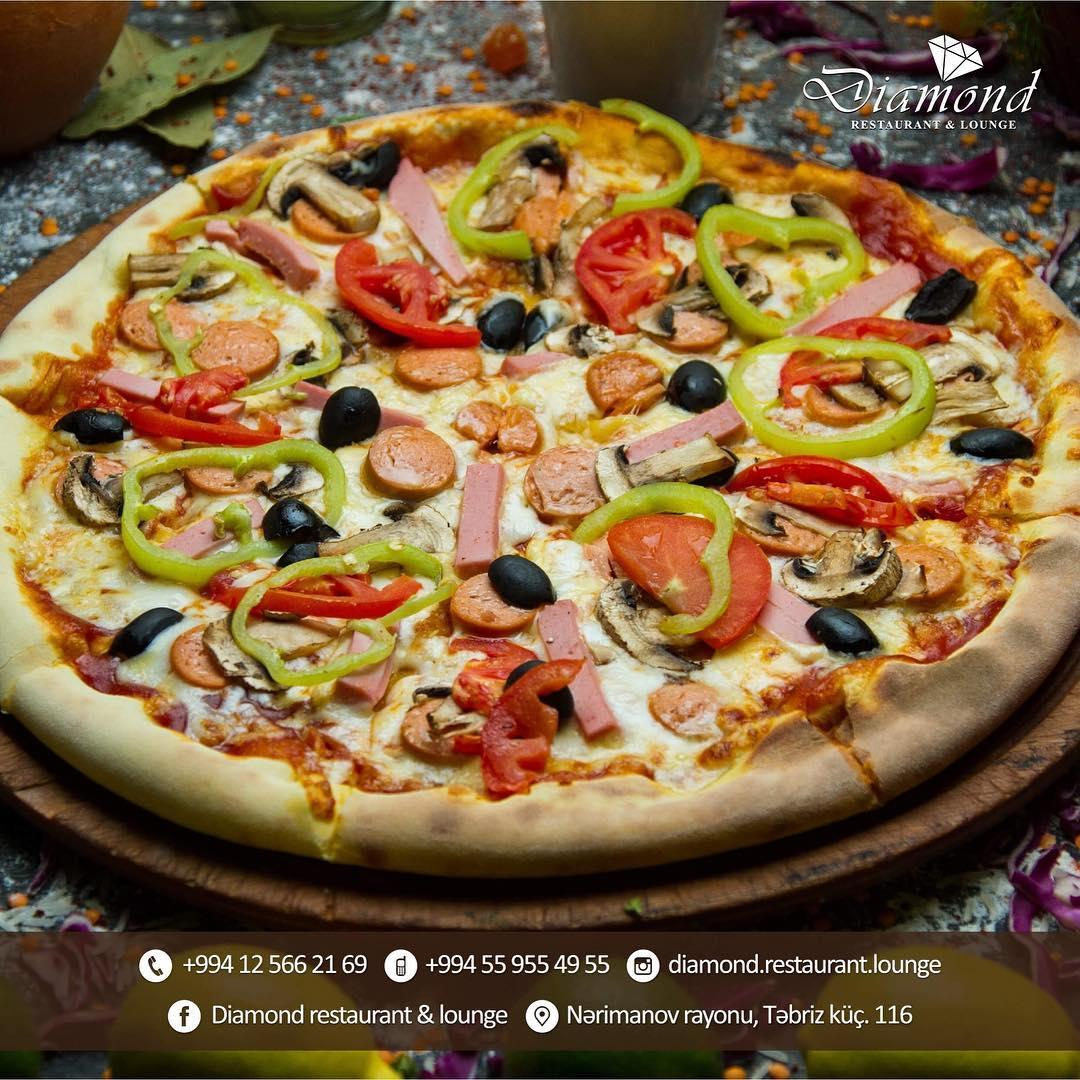Ham: (530, 586, 625, 741), (461, 454, 509, 567)
Mushroom: (928, 311, 1038, 410), (254, 154, 378, 238), (794, 528, 907, 596), (601, 428, 729, 485), (61, 457, 118, 532)
Olives: (949, 414, 1048, 468), (312, 378, 388, 448), (798, 592, 881, 654), (98, 601, 172, 658), (481, 298, 545, 358), (51, 414, 145, 454), (485, 558, 554, 608), (668, 361, 729, 410), (911, 274, 969, 325), (271, 504, 332, 547)
Pepperoni: (368, 408, 456, 503), (174, 314, 270, 370), (167, 613, 237, 688), (657, 675, 729, 732), (591, 354, 665, 403), (488, 401, 538, 454)
Peppers: (225, 545, 458, 678), (118, 441, 341, 569), (561, 474, 734, 634), (411, 111, 585, 247), (734, 334, 938, 449), (528, 94, 709, 216), (696, 201, 881, 318)
Pizza: (1, 94, 1080, 876)
Tomatoes: (607, 516, 774, 641), (456, 634, 568, 781), (341, 236, 481, 338), (581, 208, 694, 332), (744, 461, 903, 534), (90, 372, 284, 424)
